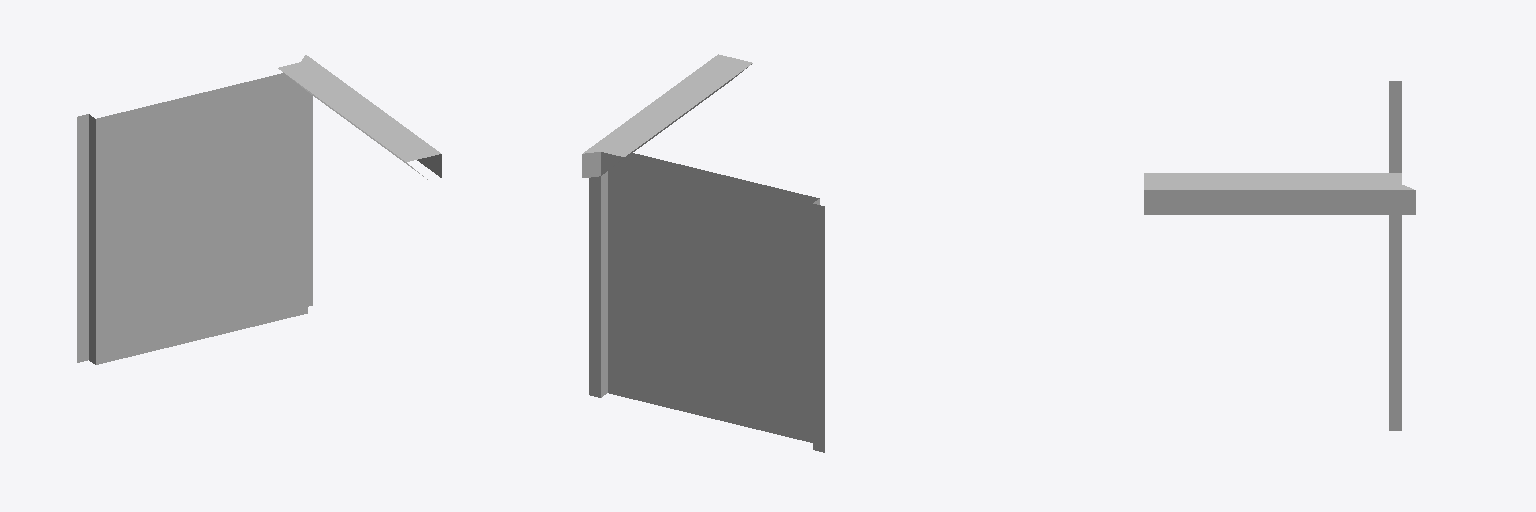
The model's file is Straight_Edge_Wall_Roof_Left.obj.
The picture shows the model from 3 angles: view 1: azimuth 30°, elevation 25°; view 2: azimuth 150°, elevation 25°; view 3: azimuth 270°, elevation 25°; orthographic projection.
Parts seen in each view (by area): view 1: Straight_Edge_Wall_Roof_Left; view 2: Straight_Edge_Wall_Roof_Left; view 3: Straight_Edge_Wall_Roof_Left.
Boxes of the visible parts, x1=… form: Straight_Edge_Wall_Roof_Left: x1=77, y1=55, x2=441, y2=364; Straight_Edge_Wall_Roof_Left: x1=582, y1=54, x2=824, y2=452; Straight_Edge_Wall_Roof_Left: x1=1144, y1=81, x2=1415, y2=430.
Bounding box in the file's own units: 1 × 1 × 1.